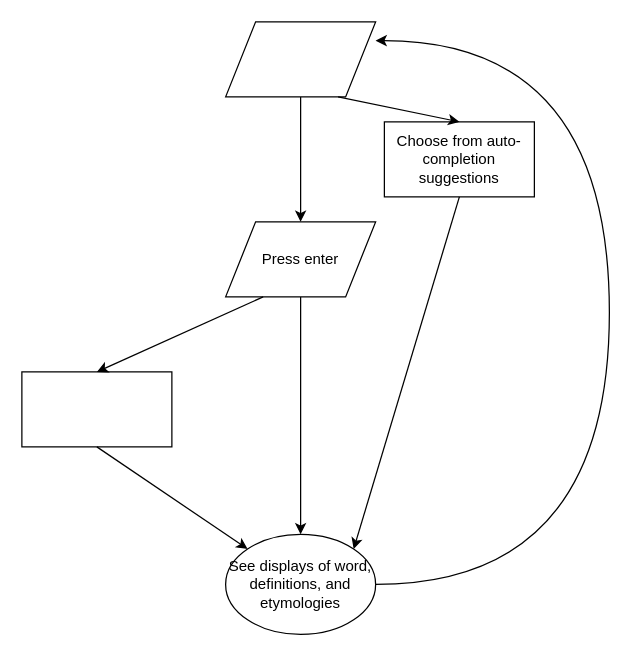
Some shapes in this 631 by 656 pixel diagram are drawn without their labels. Each missing label, with the centre of its shape:
Choose from auto-correct suggestions: pixel 96 409
Input word: pixel 300 59
